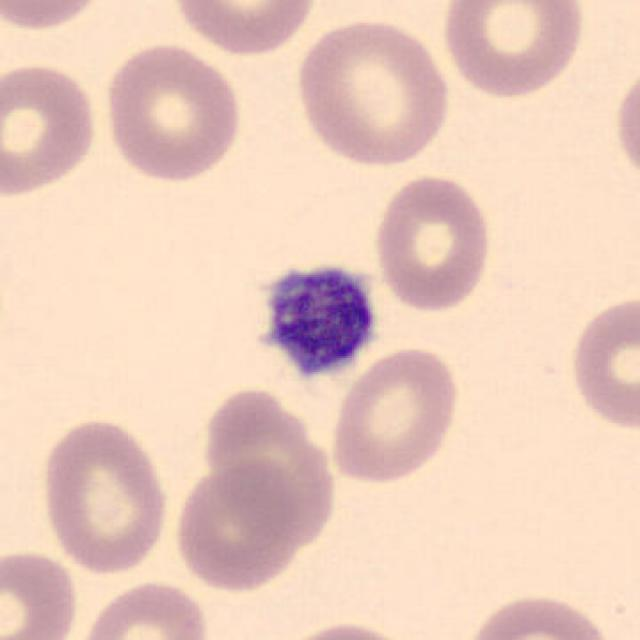Lymphocyte: (238, 249, 389, 393)
Platelets: (238, 248, 389, 389)
RBC: (290, 14, 455, 171), (197, 381, 343, 554), (36, 414, 172, 576), (100, 39, 246, 185), (327, 342, 464, 487), (370, 171, 496, 314), (171, 458, 302, 594), (437, 0, 588, 102), (0, 58, 101, 201), (566, 291, 638, 434), (74, 576, 215, 640), (167, 0, 322, 58), (458, 589, 618, 640), (0, 545, 82, 640), (610, 58, 640, 194), (0, 0, 114, 35), (270, 617, 423, 640)
